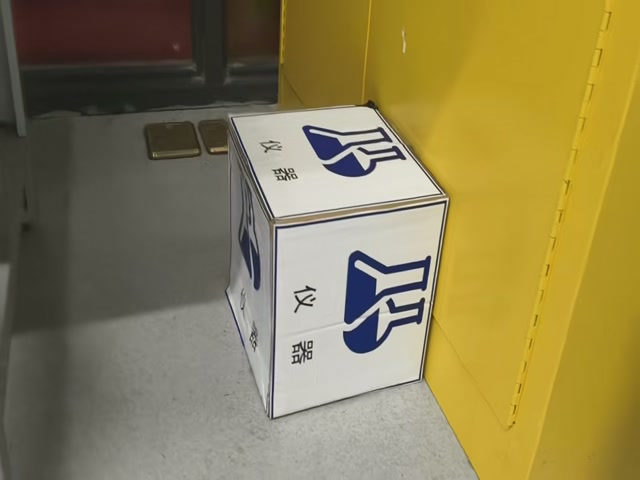Cube_ins: (224, 110, 448, 230)
